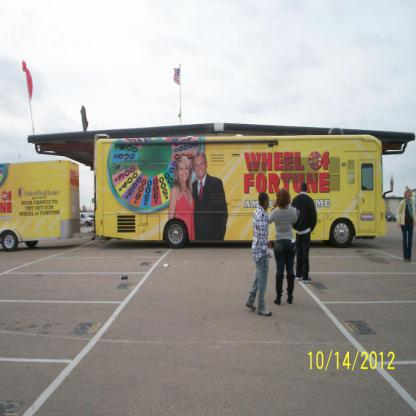Bus: (92, 133, 396, 248), (0, 160, 81, 251)
